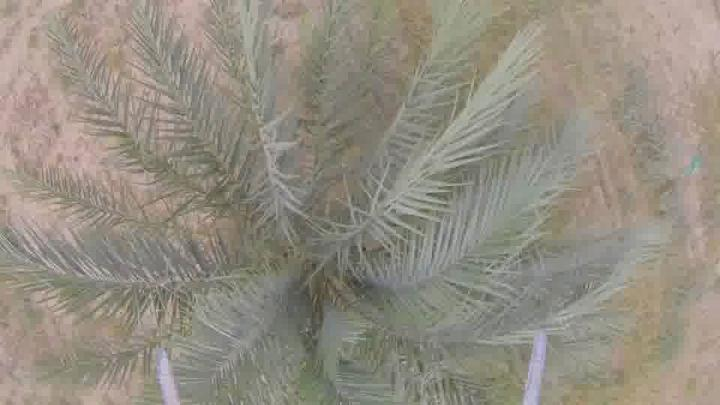Date-Palm-Crown: (124, 95, 500, 404)
